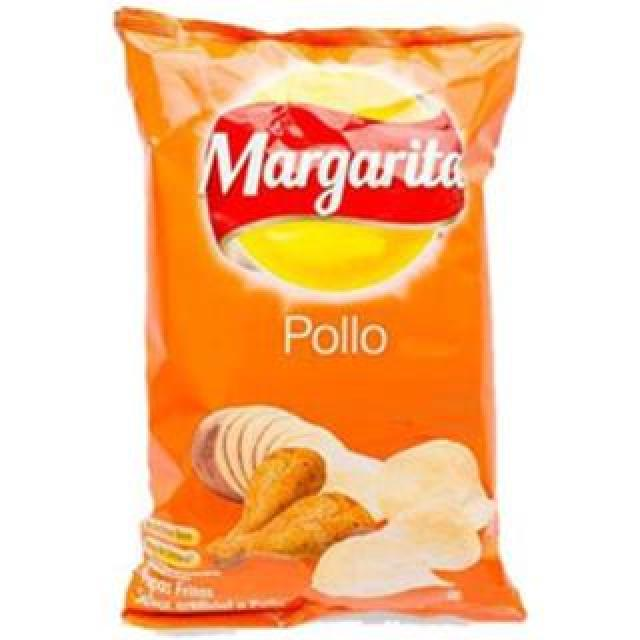Paquete: (112, 28, 532, 628)
